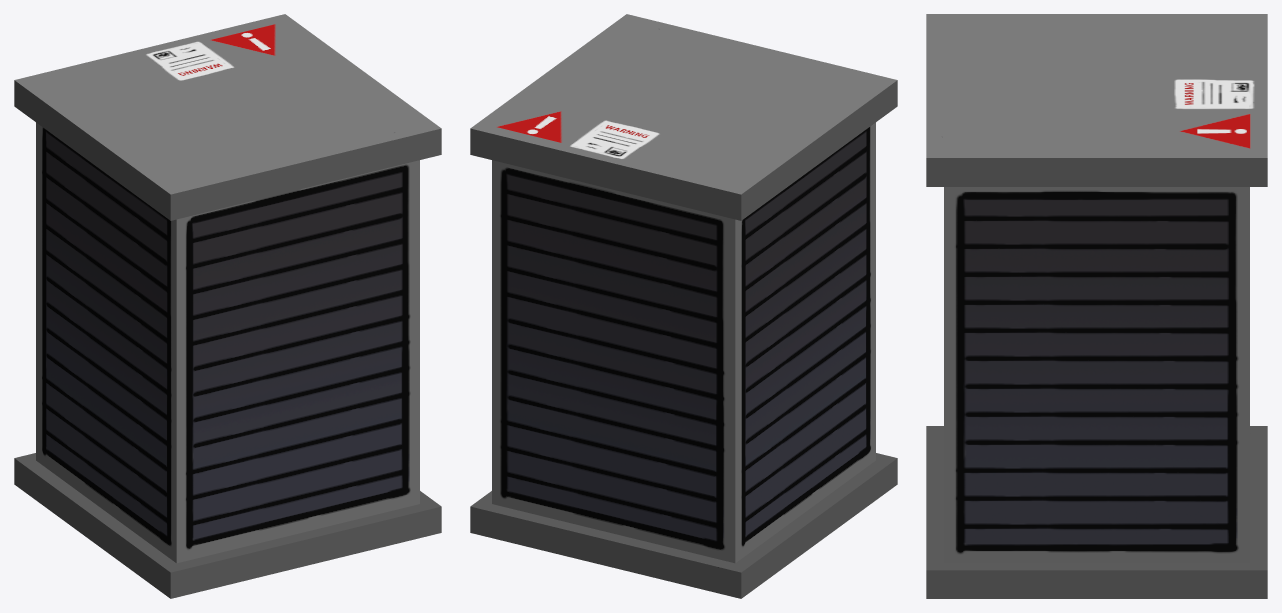
The model's file is prop.vent2.fbx.
3 renders of one model, left to right at view 1: azimuth 30°, elevation 25°; view 2: azimuth 150°, elevation 25°; view 3: azimuth 270°, elevation 25°, orthographic. The views are drawn at different scales.
Visible parts, largest first — view 1: prop.vent2; view 2: prop.vent2; view 3: prop.vent2.
Part boxes in pixels (x1,y1,x2,y2): prop.vent2: [14, 14, 441, 598]; prop.vent2: [470, 14, 897, 598]; prop.vent2: [926, 14, 1267, 598].
Bounding box in the file's own units: 223 × 318 × 223.
